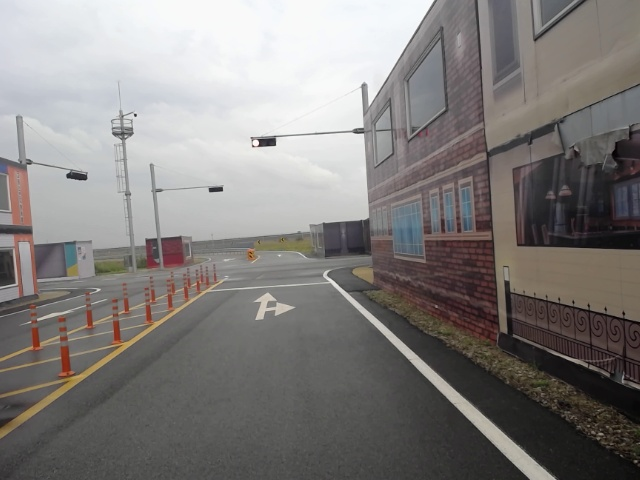red_3: (250, 137, 278, 148)
